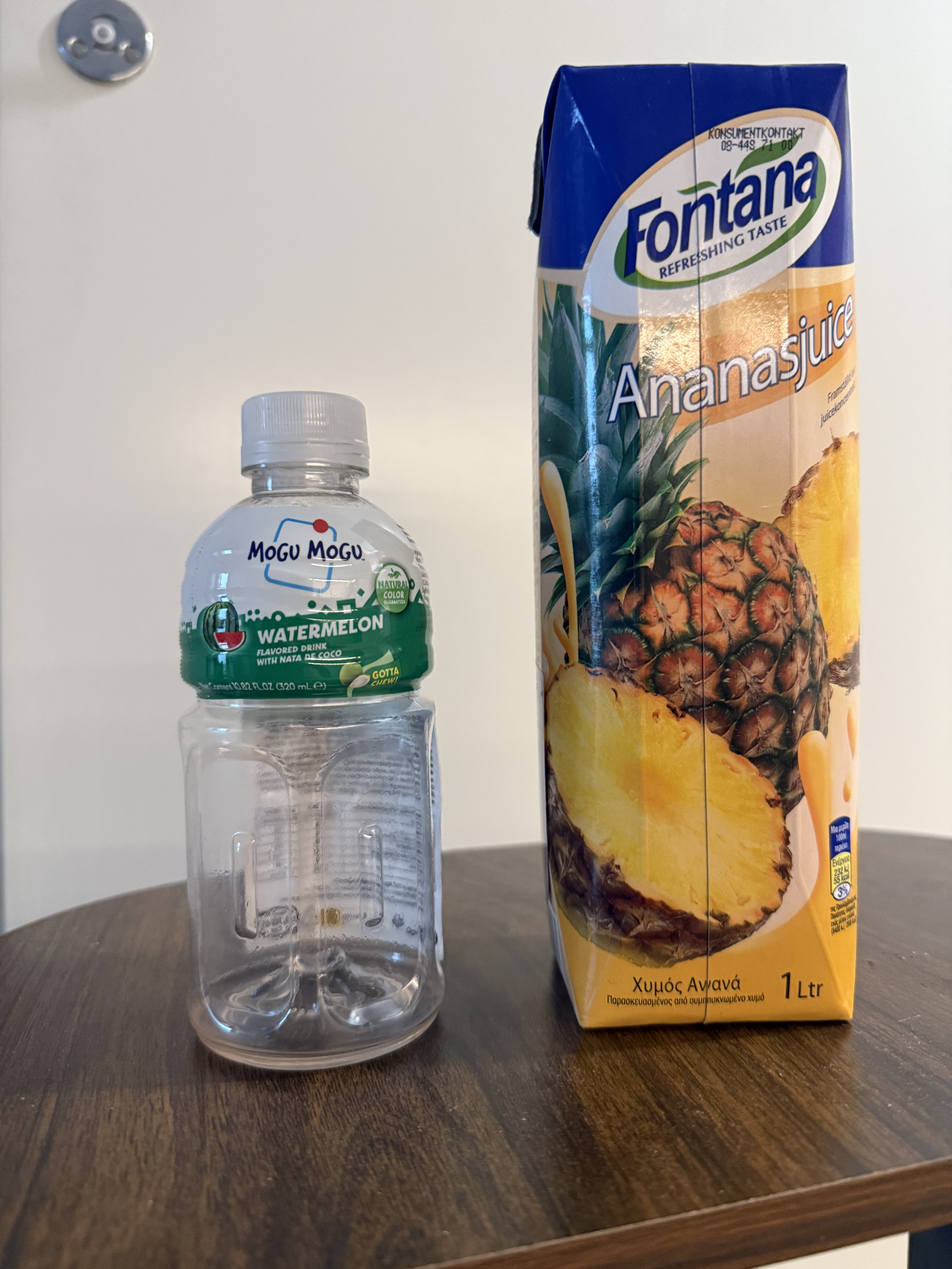Dryckeskartong: (520, 66, 866, 1029)
Pantburk: (177, 385, 446, 1056)
